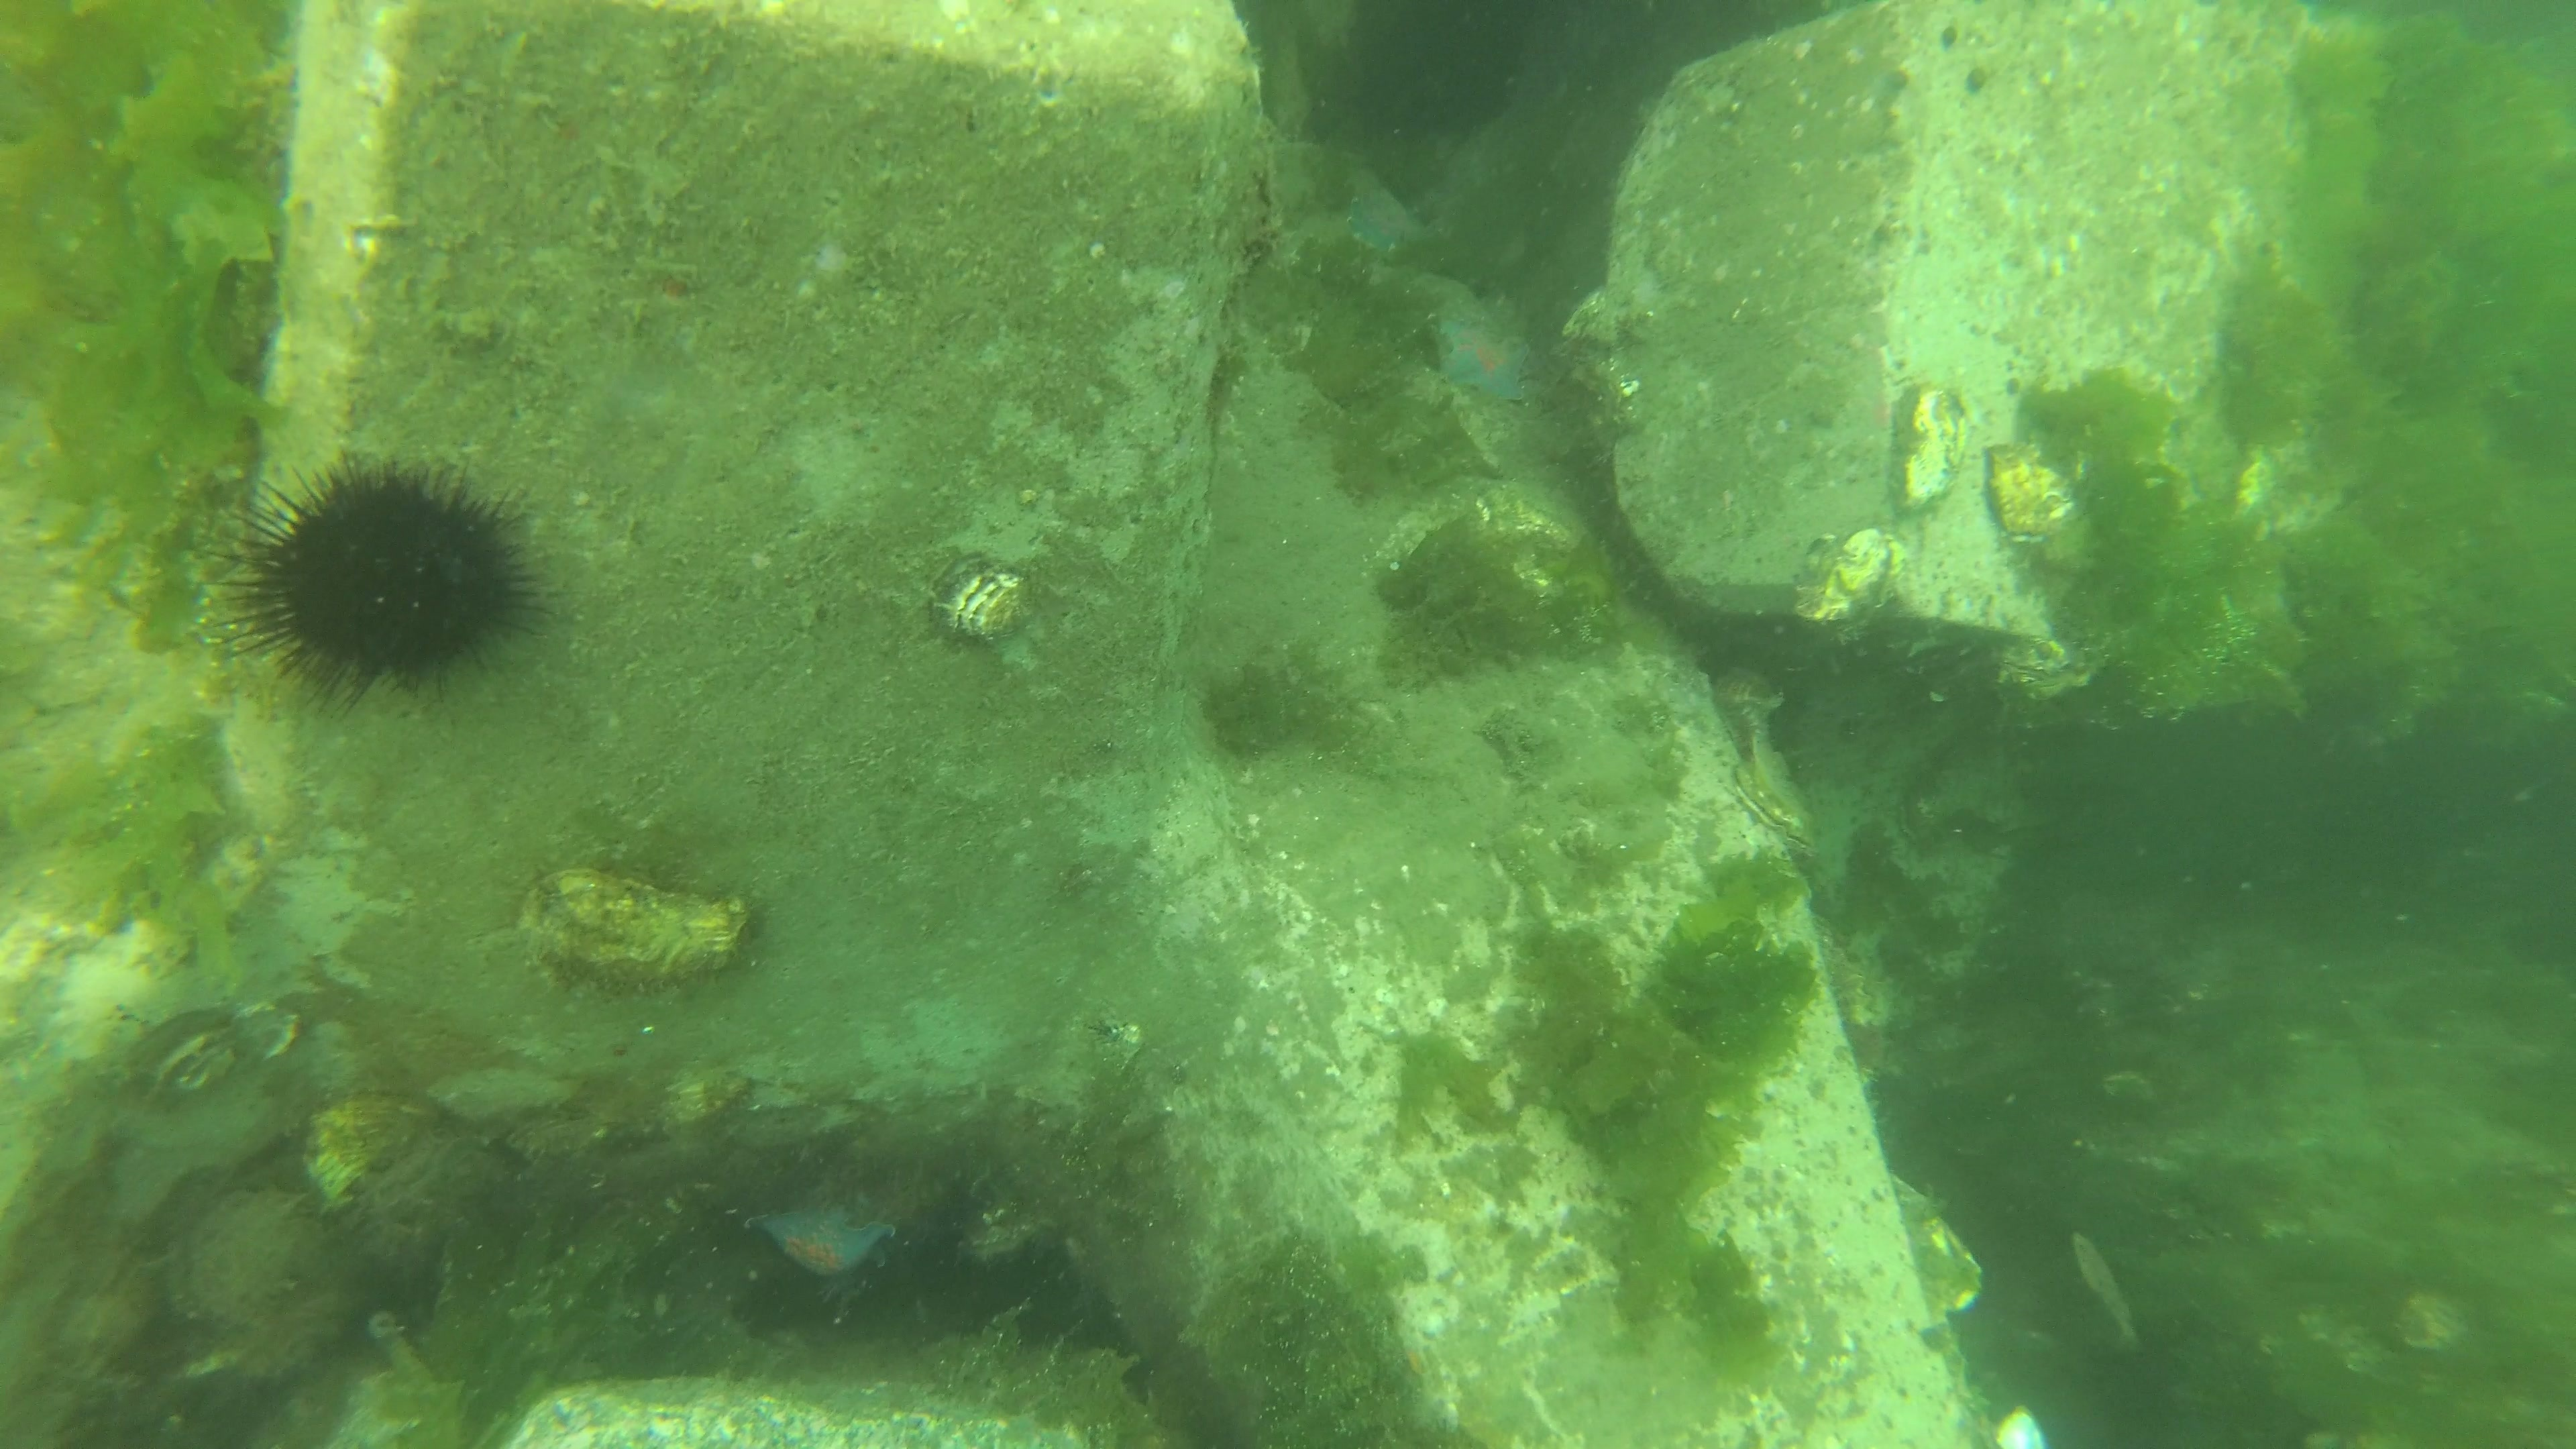echinus: (195, 439, 568, 717)
scallop: (1730, 740, 1824, 856)
starfish: (732, 1194, 902, 1288), (1422, 303, 1541, 414), (1338, 157, 1438, 260)
